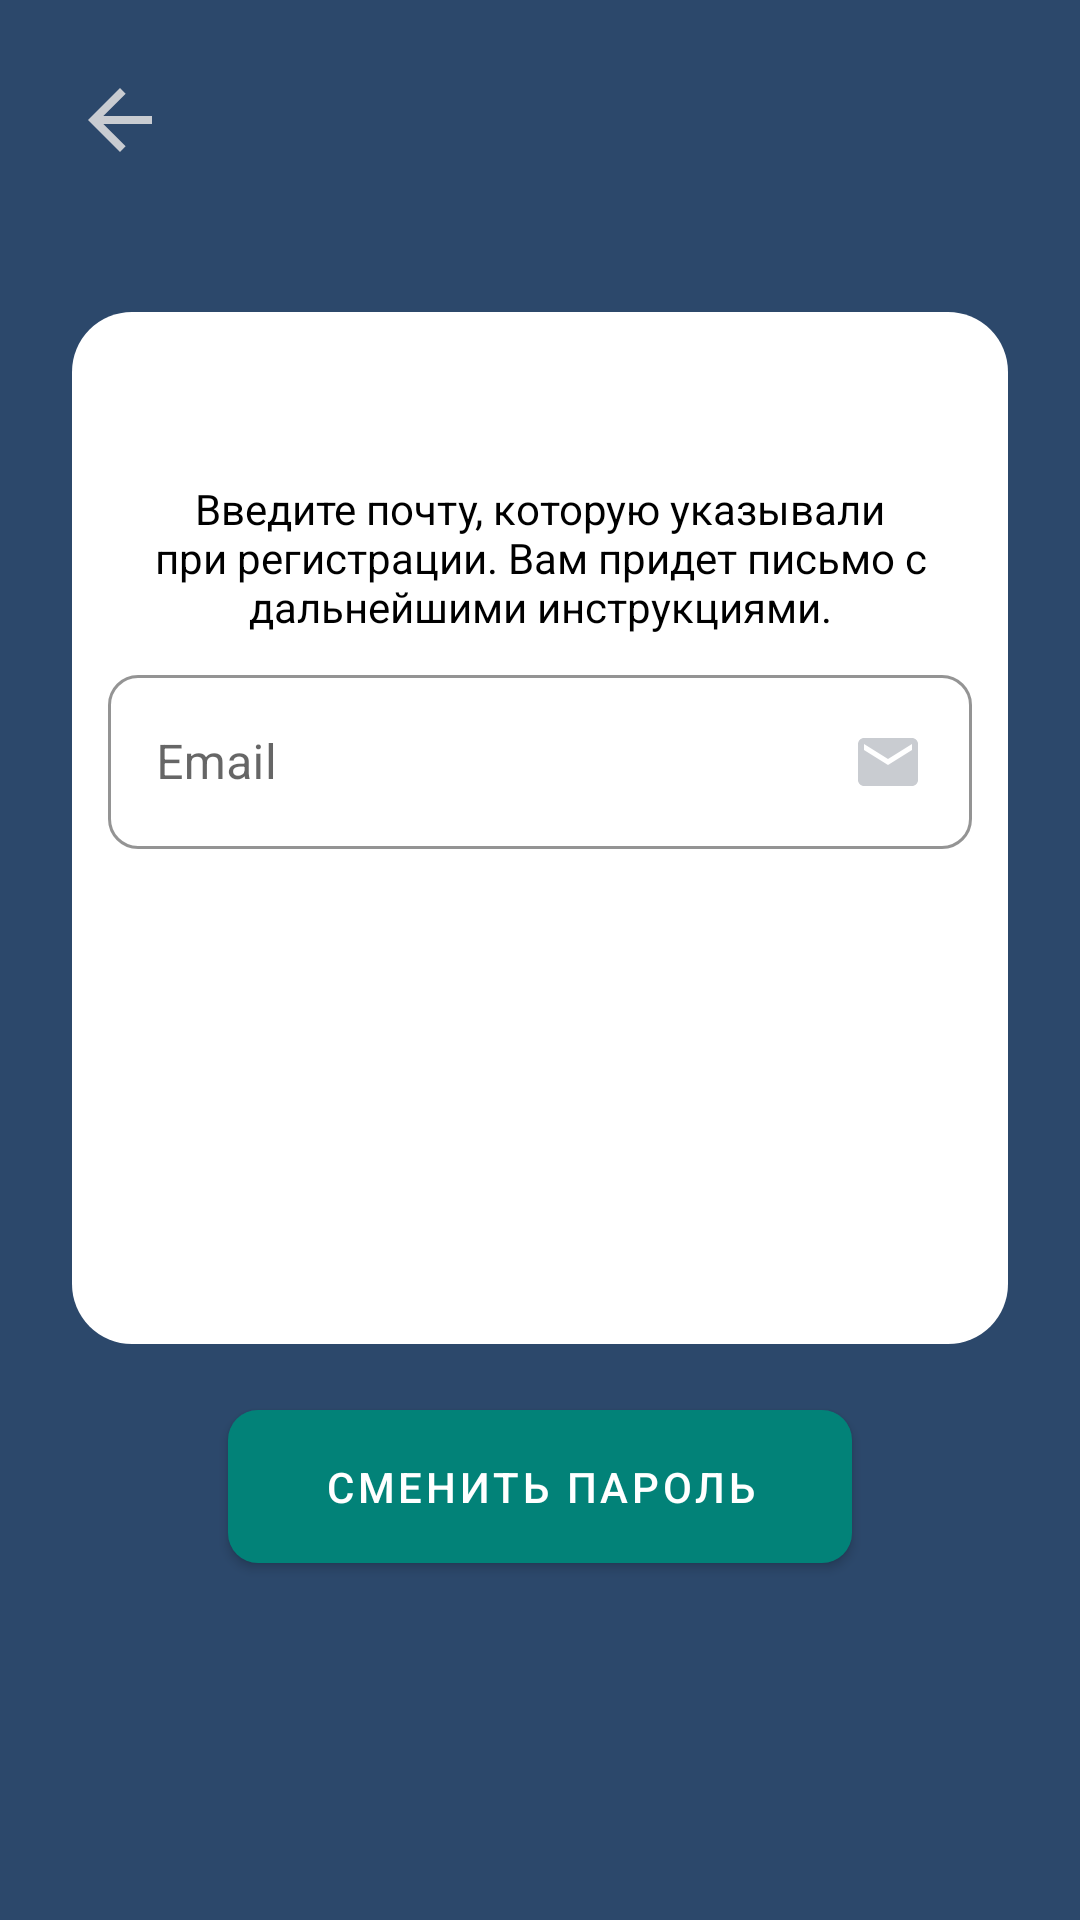

Where icons sit on this 1080 × 1920 app screen, as bbox(x1, y1, x2, y2):
arrow back: bbox(88, 88, 152, 152)
